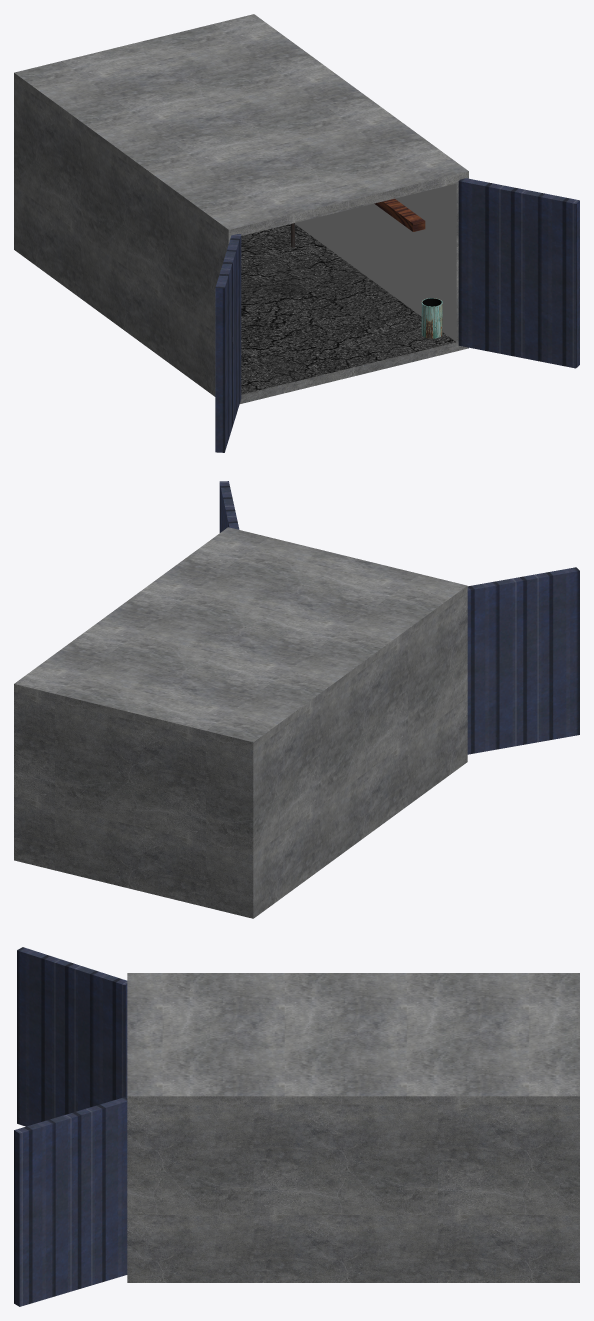
File: car_garage.fbx
3 renders of one model, top to bottom at view 1: azimuth 30°, elevation 25°; view 2: azimuth 150°, elevation 25°; view 3: azimuth 270°, elevation 25°, orthographic. The views are drawn at different scales.
Parts seen in each view (by area): view 1: garage, door_right, door_left, bin, shelves; view 2: garage, door_left, door_right; view 3: garage, door_right, door_left.
Part boxes in pixels (box(x1,y1,x2,y2)): garage: box(14, 14, 468, 403); door_right: box(458, 178, 579, 368); door_left: box(215, 234, 241, 452); bin: box(421, 298, 442, 338); shelves: box(374, 198, 425, 231); garage: box(14, 527, 467, 918); door_left: box(467, 567, 579, 754); door_right: box(219, 481, 239, 532); garage: box(127, 973, 579, 1282); door_right: box(14, 1097, 127, 1306); door_left: box(17, 947, 127, 1126).
Size of the model in its own units: 578 by 451 by 210.
